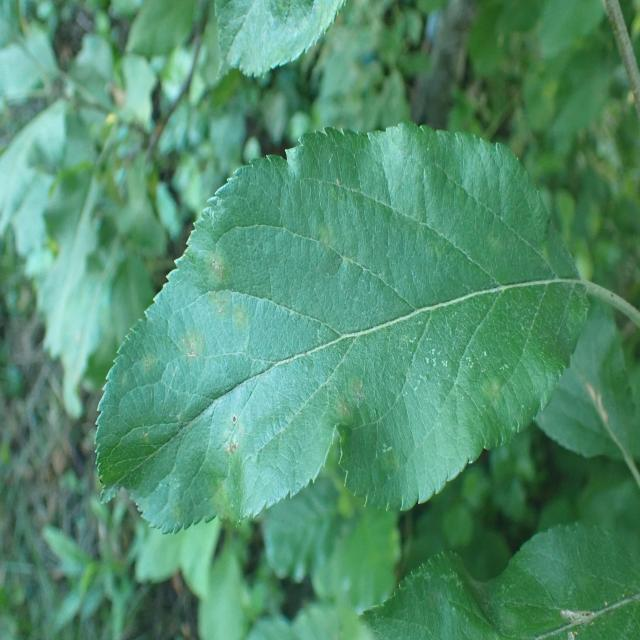scab: (114, 149, 545, 494)
